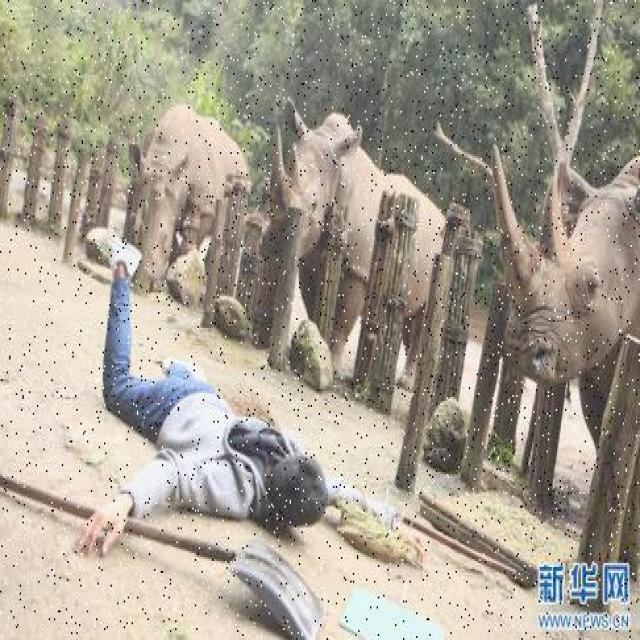fall: (90, 241, 346, 543)
